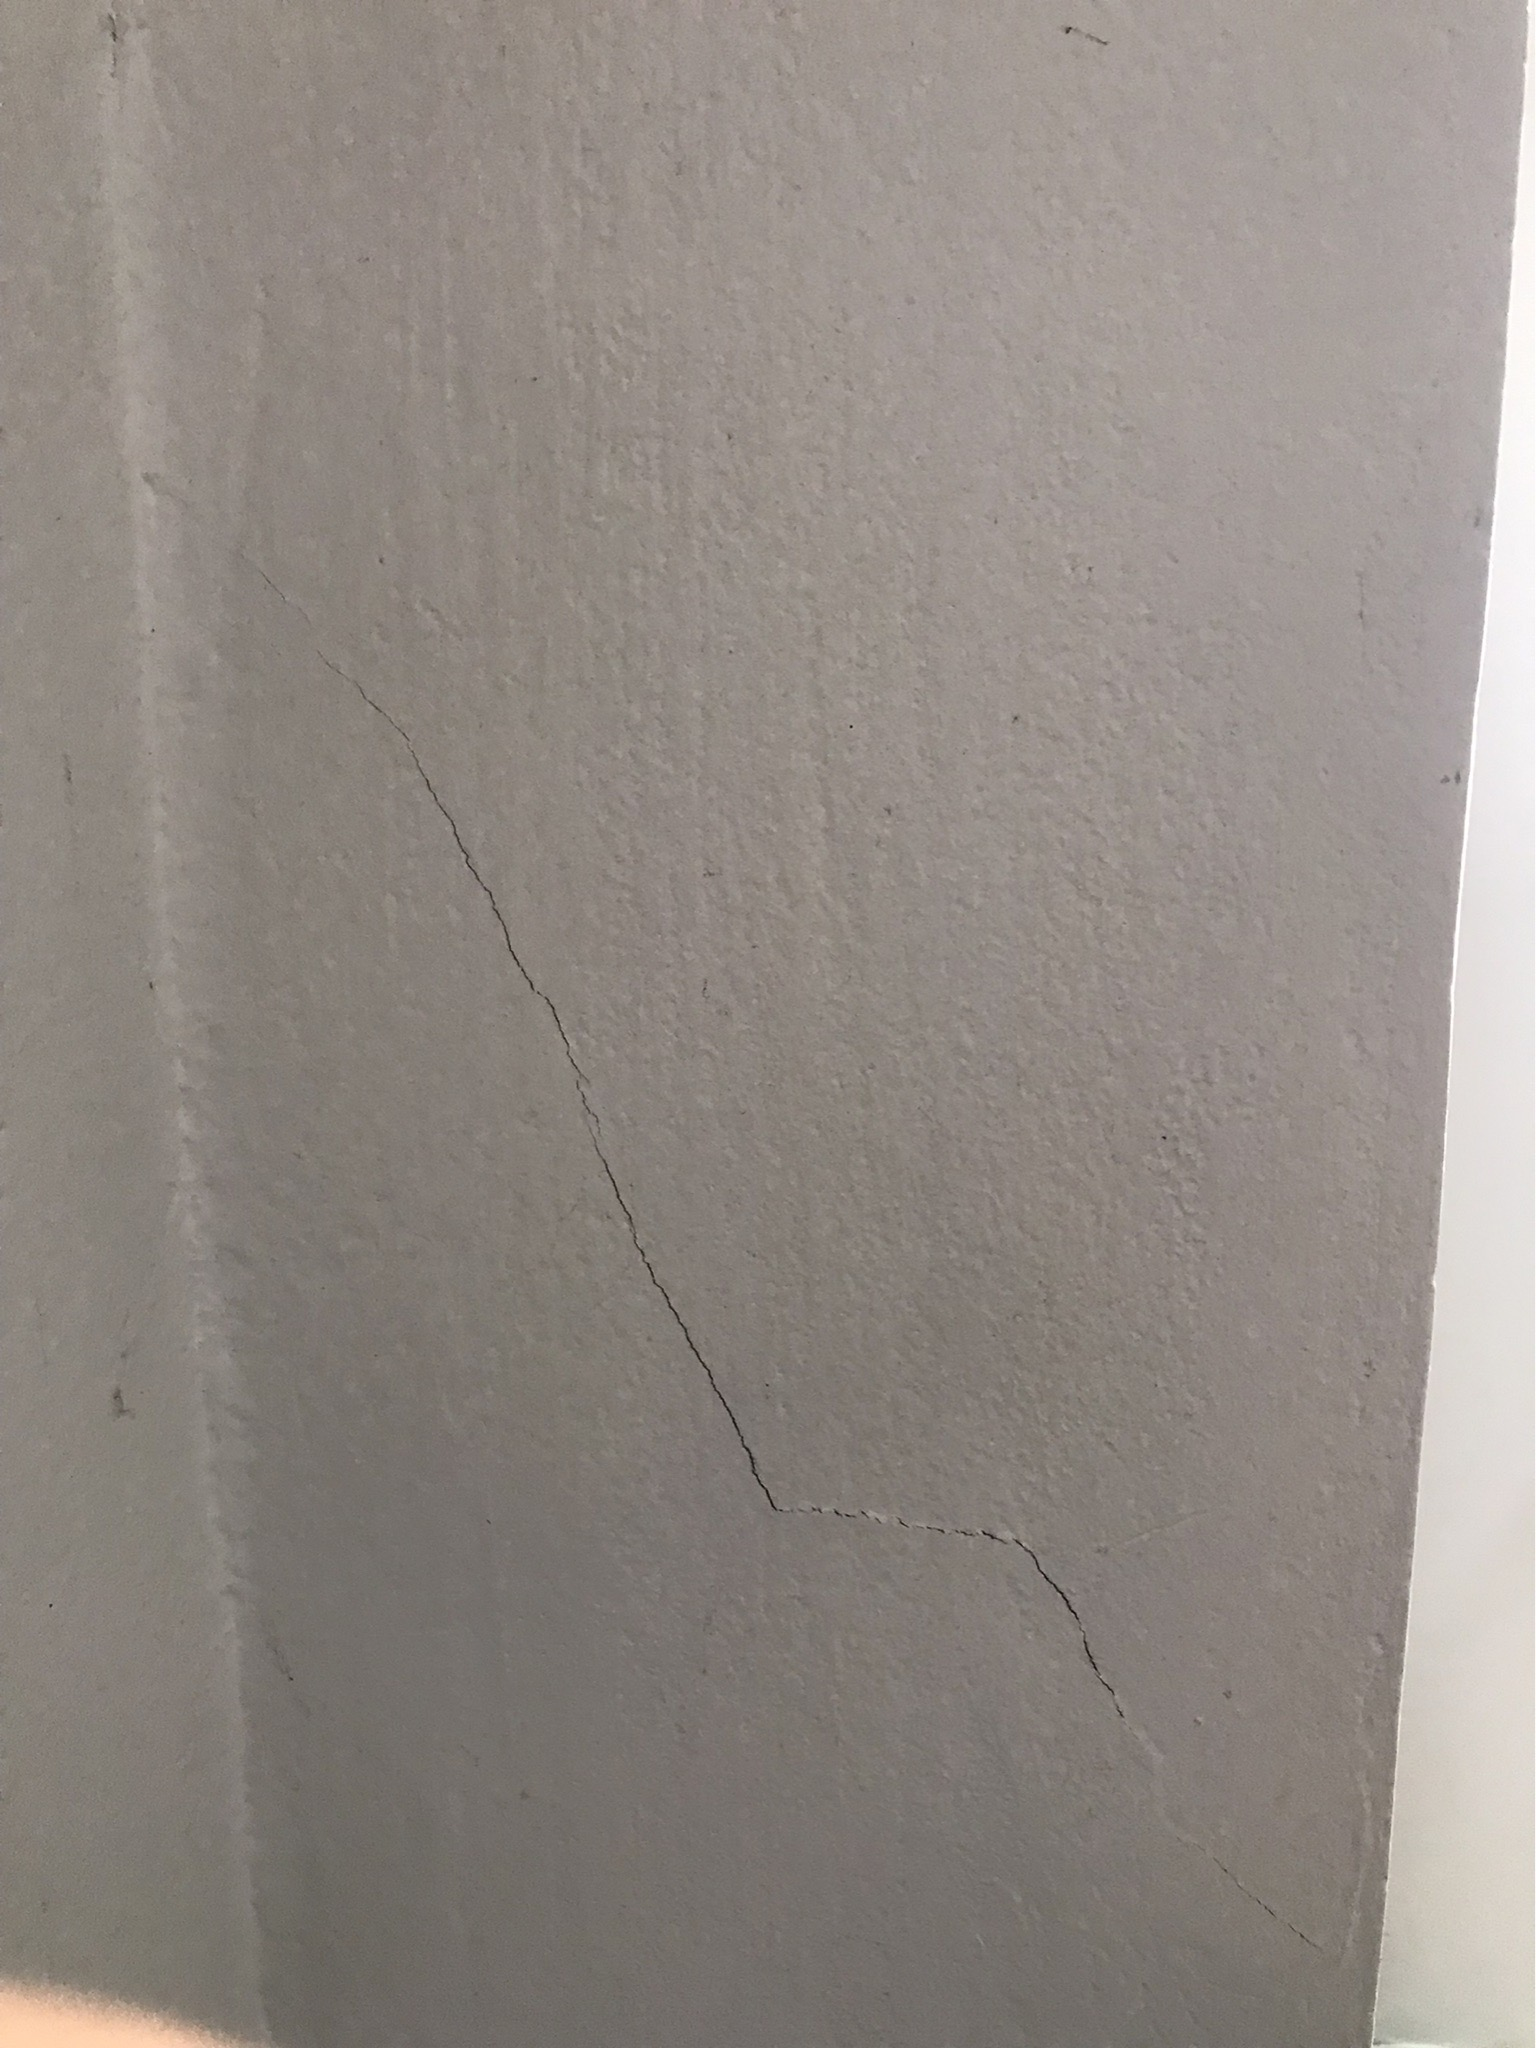Low: (127, 463, 1152, 1780)
